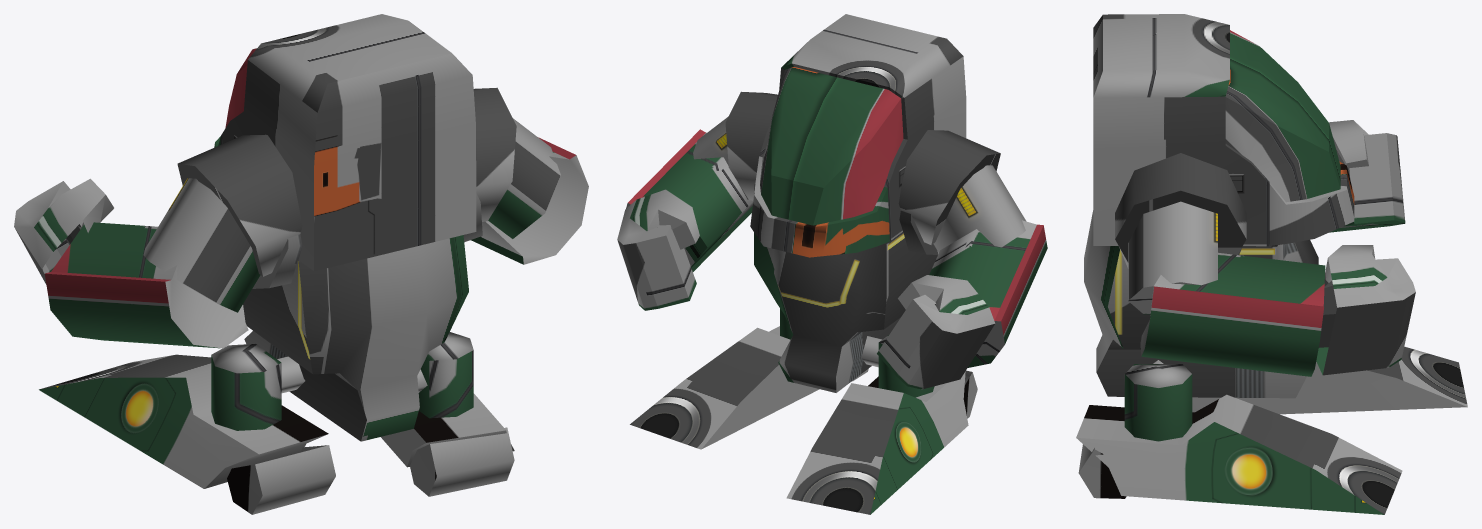
File: robo_ab00_mod.fbx
3 renders of one model, left to right at view 1: azimuth 30°, elevation 25°; view 2: azimuth 150°, elevation 25°; view 3: azimuth 270°, elevation 25°, orthographic. The views are drawn at different scales.
Parts seen in each view (by area): view 1: robo_ab00_mod_wait; view 2: robo_ab00_mod_wait; view 3: robo_ab00_mod_wait.
Boxes of the visible parts, bbox=[...] form: robo_ab00_mod_wait: bbox=[14, 14, 588, 514]; robo_ab00_mod_wait: bbox=[617, 14, 1047, 514]; robo_ab00_mod_wait: bbox=[1076, 14, 1467, 514].
Size of the model in its own units: 11.28 by 10.2 by 8.94.
